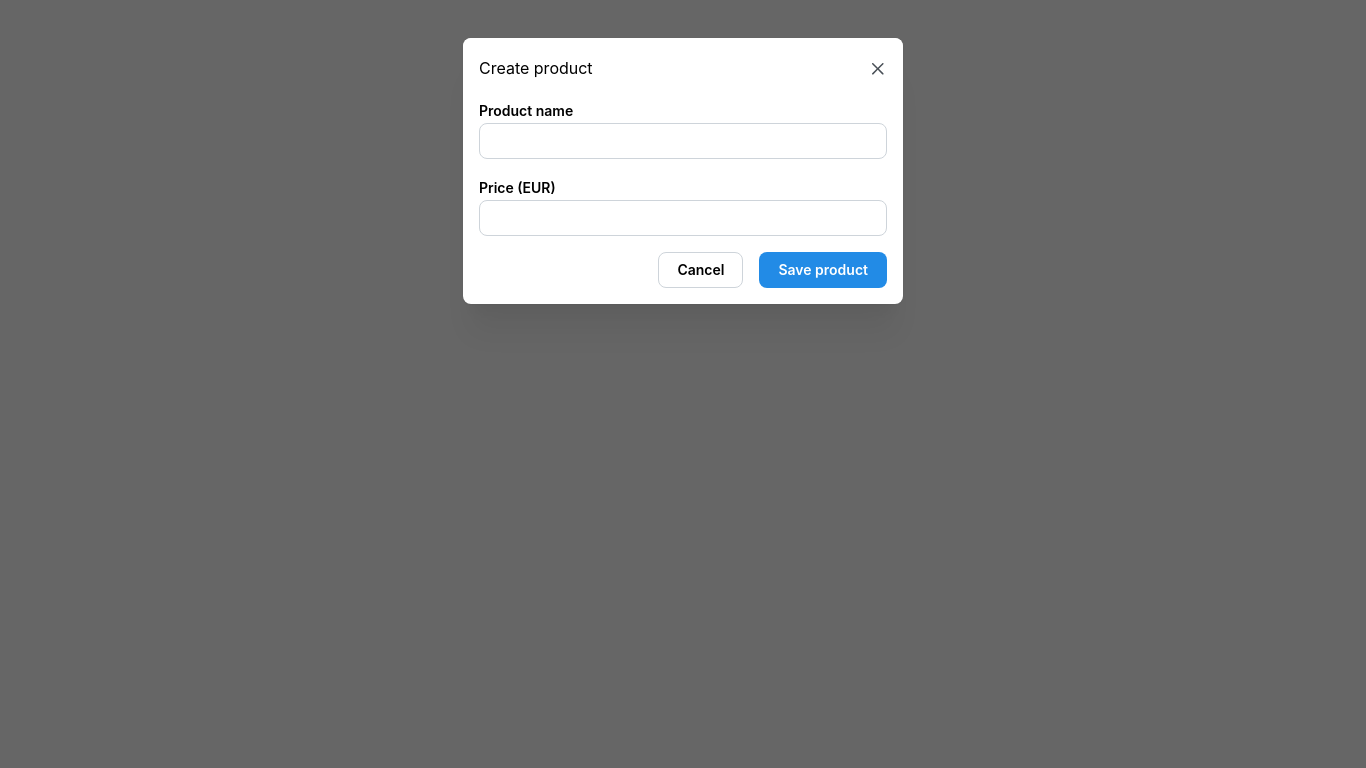
Test case: product writes › marks network write outcome uncertain and never automatically replays
In the field labelled "Product name": [683, 141] box [479,123,887,159], type " New product "
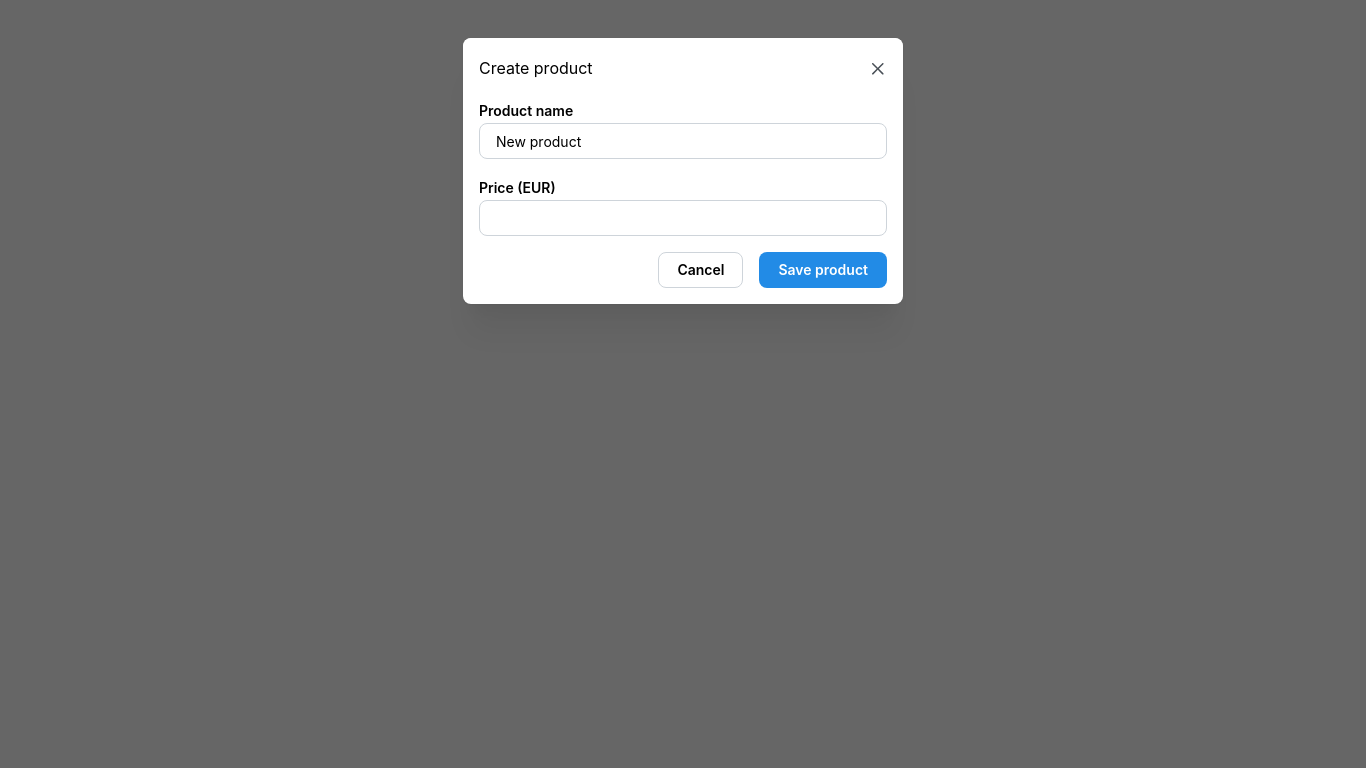
In the field labelled "Price (EUR)": [683, 218] box [479,200,887,236], type "12.50"
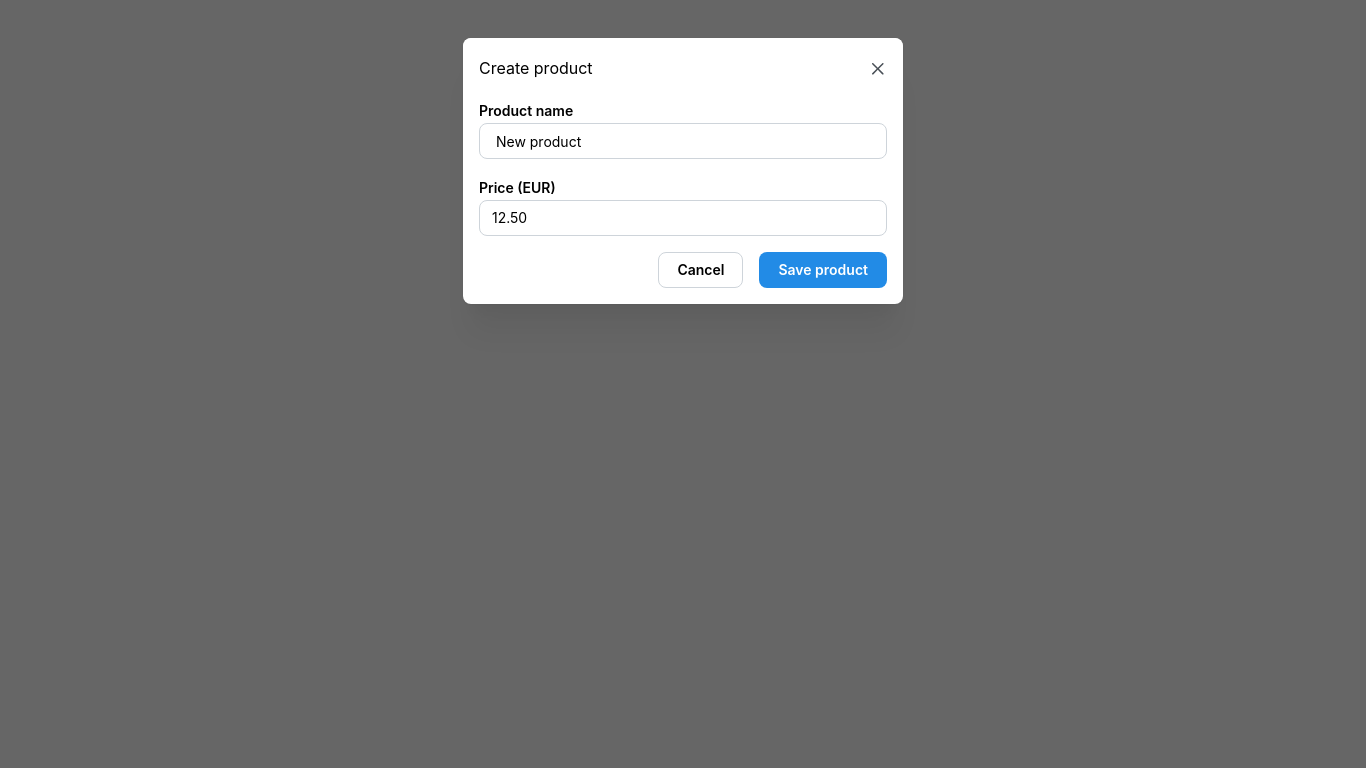
Click the button "Save product": [823, 270] box [759,252,887,288]
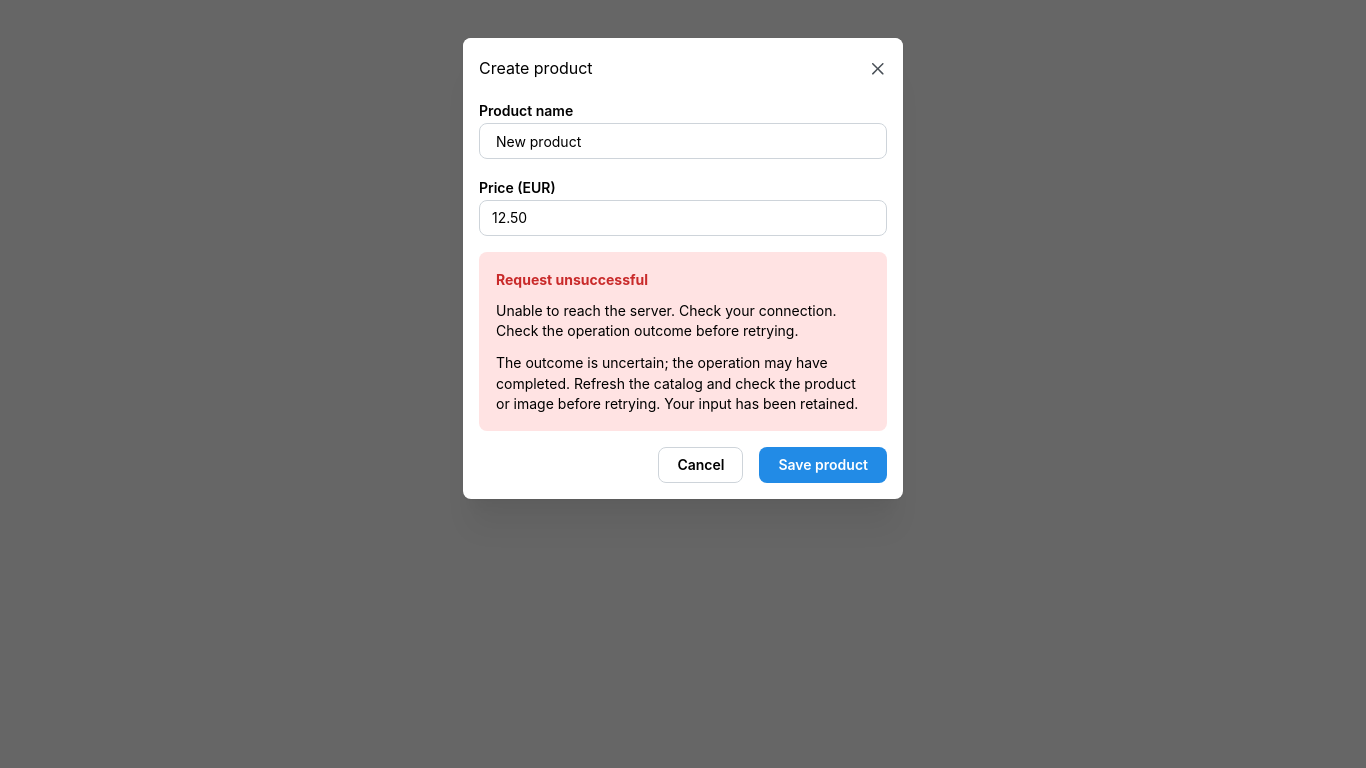
Expected: the message shows "The outcome is uncertain", [496,354,858,412]
